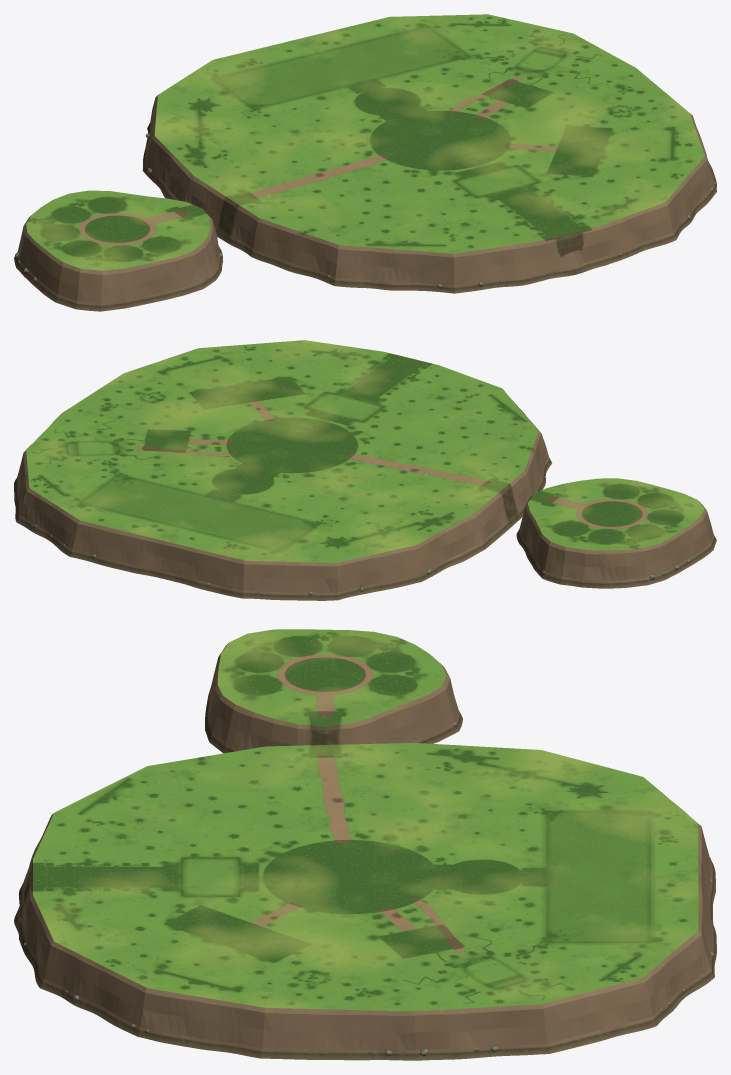
Rendered from LOBBY_SN_02_TERRAIN_d9f901.fbx.
3 views of the same model, one above another, from view 1: azimuth 30°, elevation 25°; view 2: azimuth 150°, elevation 25°; view 3: azimuth 270°, elevation 25° (orthographic). The views are drawn at different scales.
Parts seen in each view (by area): view 1: WB_Ter_Ground_01__SNB_Ground_2_g15_16, WB_Ter_Ground_01__SNB_Ground_2_g16_16, WB_Ter_Ground_01__SNB_Ground_2_g16_15, WB_Ter_Ground_01__SNB_Ground_2_g15_15, WB_Ter_Shore__SNB_Shore_g14_15, WB_Ter_Ground__SNB_Ground_1, WB_Ter_Shore__SNB_Shore_g15_14, WB_Ter_Shore__SNB_Shore_g14_16, WB_Ter_Shore__SNB_Shore_g17_16, WB_Ter_Ground_02__SNB_Ground_3; view 2: WB_Ter_Ground_01__SNB_Ground_2_g15_16, WB_Ter_Ground_01__SNB_Ground_2_g16_16, WB_Ter_Ground_01__SNB_Ground_2_g16_15, WB_Ter_Ground_01__SNB_Ground_2_g15_15, WB_Ter_Ground__SNB_Ground_1, WB_Ter_Shore__SNB_Shore_g14_16, WB_Ter_Shore__SNB_Shore_g15_17, WB_Ter_Shore__SNB_Shore_g14_15, WB_Ter_Shore__SNB_Shore_g16_17, WB_Ter_Ground_02__SNB_Ground_3; view 3: WB_Ter_Ground_01__SNB_Ground_2_g15_16, WB_Ter_Ground_01__SNB_Ground_2_g16_16, WB_Ter_Ground_01__SNB_Ground_2_g16_15, WB_Ter_Ground_01__SNB_Ground_2_g15_15, WB_Ter_Ground__SNB_Ground_1, WB_Ter_Shore__SNB_Shore_g17_16, WB_Ter_Shore__SNB_Shore_g17_15, WB_Ter_Shore__SNB_Shore_g16_17, WB_Ter_Shore__SNB_Shore_g14_15, WB_Ter_Shore__SNB_Shore_g14_16, WB_Ter_Shore__SNB_Shore_g15_14, WB_Ter_Ground_02__SNB_Ground_3 (+1 smaller).
Boxes of the visible parts, x1=… form: WB_Ter_Ground_01__SNB_Ground_2_g15_16: x1=154, y1=14, x2=505, y2=237; WB_Ter_Ground_01__SNB_Ground_2_g16_16: x1=332, y1=18, x2=700, y2=144; WB_Ter_Ground_01__SNB_Ground_2_g16_15: x1=427, y1=95, x2=704, y2=253; WB_Ter_Ground_01__SNB_Ground_2_g15_15: x1=250, y1=141, x2=545, y2=251; WB_Ter_Shore__SNB_Shore_g14_15: x1=14, y1=104, x2=419, y2=311; WB_Ter_Ground__SNB_Ground_1: x1=26, y1=154, x2=389, y2=270; WB_Ter_Shore__SNB_Shore_g15_14: x1=405, y1=188, x2=692, y2=293; WB_Ter_Shore__SNB_Shore_g14_16: x1=142, y1=115, x2=220, y2=219; WB_Ter_Shore__SNB_Shore_g17_16: x1=677, y1=151, x2=716, y2=219; WB_Ter_Ground_02__SNB_Ground_3: x1=449, y1=76, x2=558, y2=151; WB_Ter_Ground_01__SNB_Ground_2_g15_16: x1=28, y1=442, x2=534, y2=562; WB_Ter_Ground_01__SNB_Ground_2_g16_16: x1=26, y1=355, x2=290, y2=519; WB_Ter_Ground_01__SNB_Ground_2_g16_15: x1=120, y1=340, x2=510, y2=446; WB_Ter_Ground_01__SNB_Ground_2_g15_15: x1=296, y1=371, x2=538, y2=489; WB_Ter_Ground__SNB_Ground_1: x1=346, y1=453, x2=704, y2=550; WB_Ter_Shore__SNB_Shore_g14_16: x1=372, y1=496, x2=618, y2=591; WB_Ter_Shore__SNB_Shore_g15_17: x1=157, y1=540, x2=363, y2=600; WB_Ter_Shore__SNB_Shore_g14_15: x1=354, y1=402, x2=716, y2=594; WB_Ter_Shore__SNB_Shore_g16_17: x1=15, y1=469, x2=161, y2=577; WB_Ter_Ground_02__SNB_Ground_3: x1=135, y1=400, x2=275, y2=455; WB_Ter_Ground_01__SNB_Ground_2_g15_16: x1=179, y1=743, x2=698, y2=982; WB_Ter_Ground_01__SNB_Ground_2_g16_16: x1=179, y1=875, x2=621, y2=1011; WB_Ter_Ground_01__SNB_Ground_2_g16_15: x1=33, y1=802, x2=354, y2=993; WB_Ter_Ground_01__SNB_Ground_2_g15_15: x1=75, y1=760, x2=354, y2=876; WB_Ter_Ground__SNB_Ground_1: x1=217, y1=629, x2=446, y2=842; WB_Ter_Shore__SNB_Shore_g17_16: x1=77, y1=955, x2=618, y2=1060; WB_Ter_Shore__SNB_Shore_g17_15: x1=138, y1=991, x2=353, y2=1060; WB_Ter_Shore__SNB_Shore_g16_17: x1=592, y1=877, x2=716, y2=1035; WB_Ter_Shore__SNB_Shore_g14_15: x1=205, y1=643, x2=352, y2=753; WB_Ter_Shore__SNB_Shore_g14_16: x1=351, y1=664, x2=462, y2=744; WB_Ter_Shore__SNB_Shore_g15_14: x1=14, y1=813, x2=81, y2=1007; WB_Ter_Ground_02__SNB_Ground_3: x1=250, y1=898, x2=465, y2=952.
Size of the model in its own units: 441 by 23.4 by 332.
4 materials, 4 textured.
